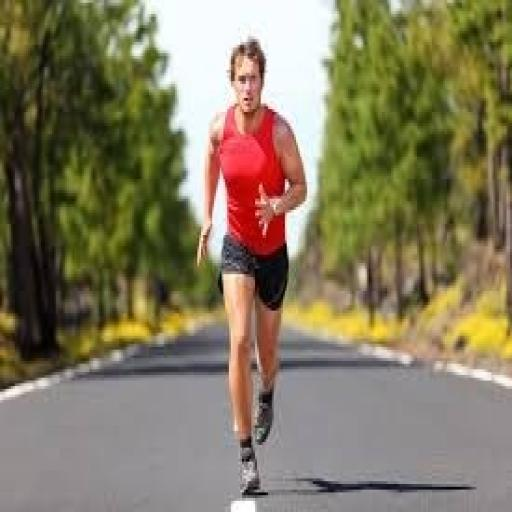running: (194, 34, 309, 498)
